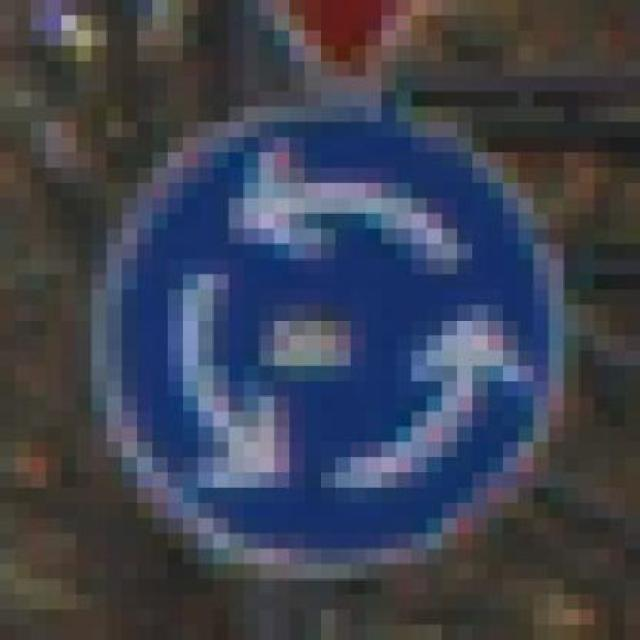Round-About: (76, 76, 579, 595)
